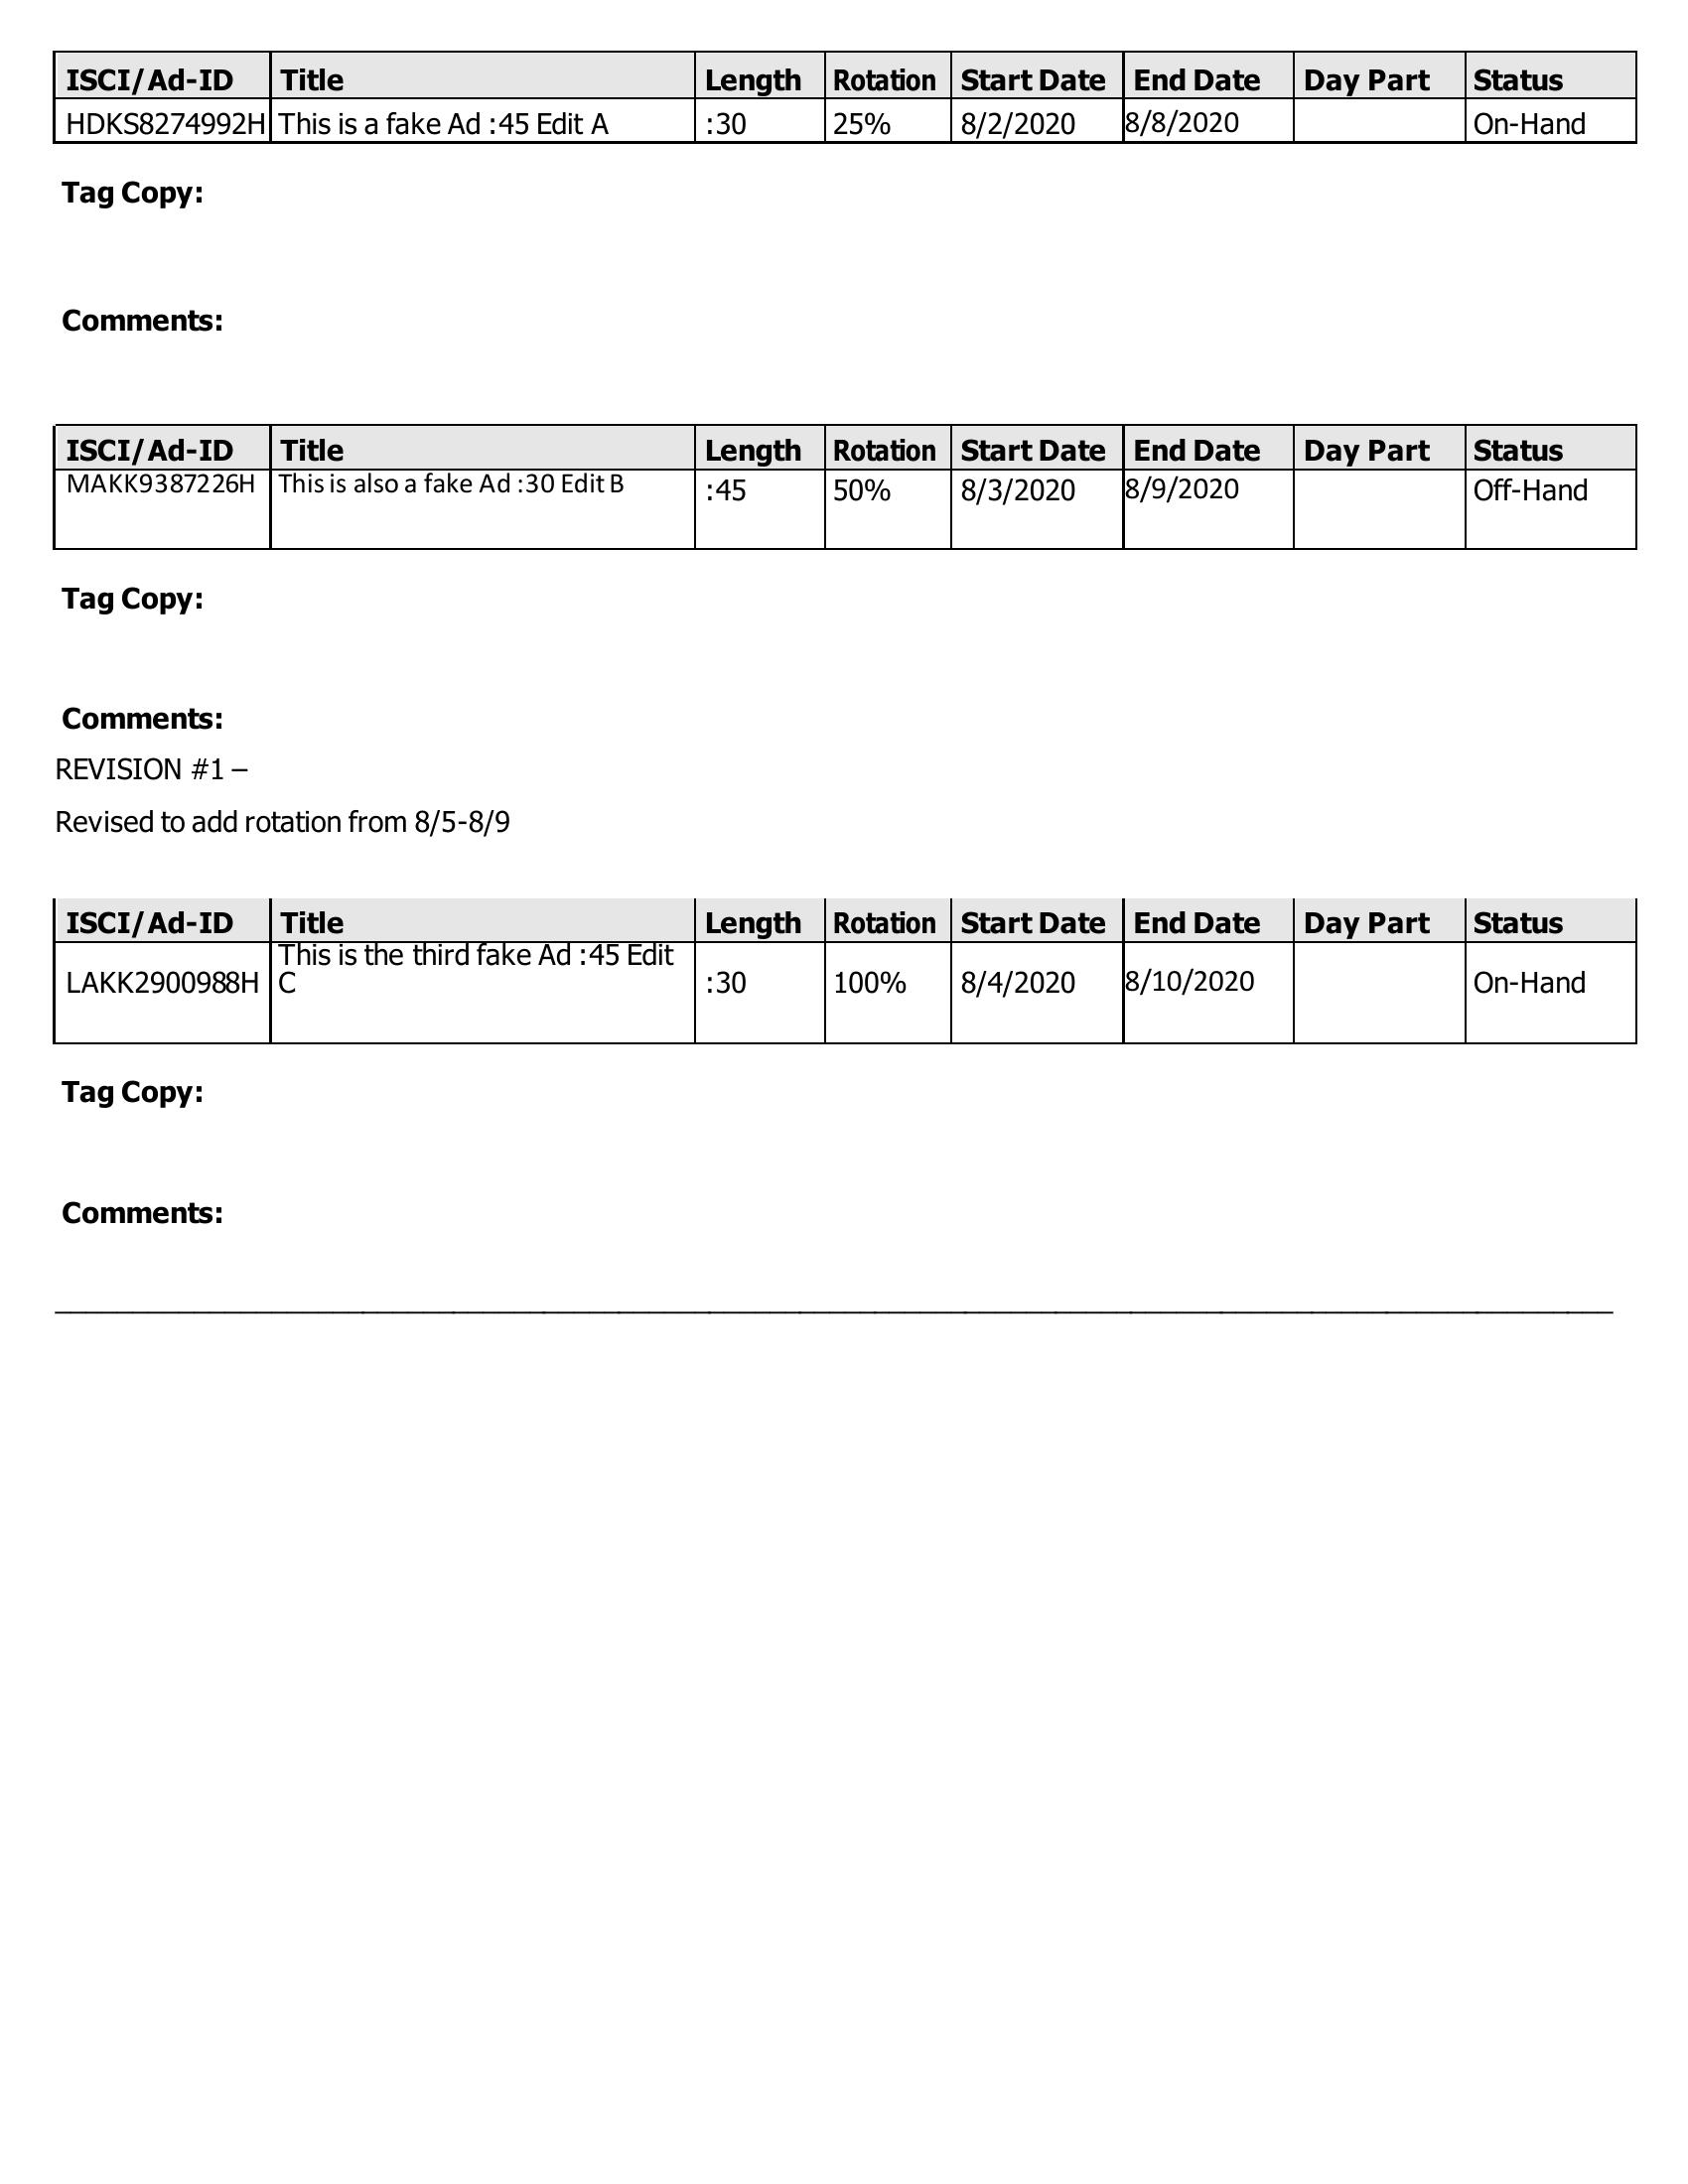table: (28, 869, 1661, 1064), (27, 394, 1658, 569), (34, 27, 1654, 154)
